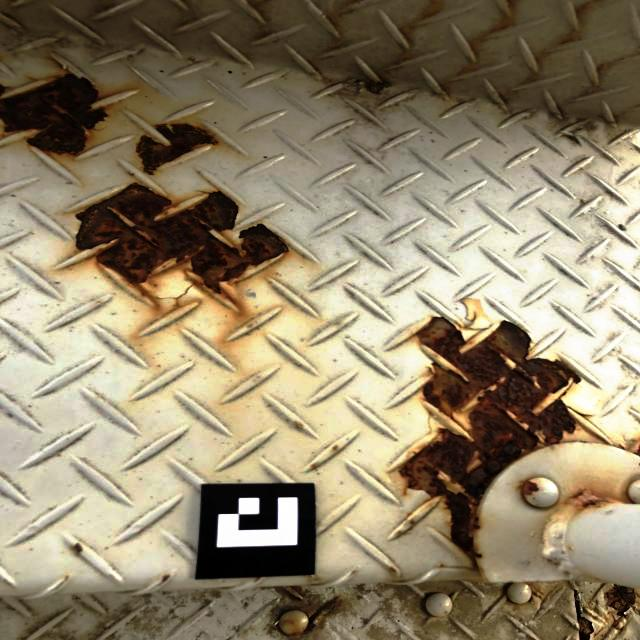Corrosion: (400, 318, 579, 552), (75, 184, 289, 294), (0, 74, 108, 155), (136, 122, 219, 175), (284, 605, 338, 639), (561, 487, 626, 512), (604, 584, 638, 617), (516, 476, 542, 496), (576, 611, 592, 640), (365, 80, 391, 95), (289, 585, 305, 599), (286, 589, 303, 601), (72, 542, 84, 555), (162, 573, 170, 584), (633, 447, 640, 456), (332, 444, 339, 452), (296, 421, 303, 428)
